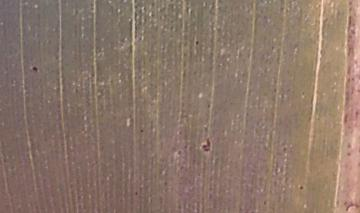tarspot: (199, 137, 214, 155), (29, 64, 41, 75), (297, 182, 307, 195), (280, 142, 289, 155), (193, 35, 201, 48), (174, 148, 184, 158), (138, 126, 146, 135)
